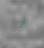two: (19, 20, 23, 28)
